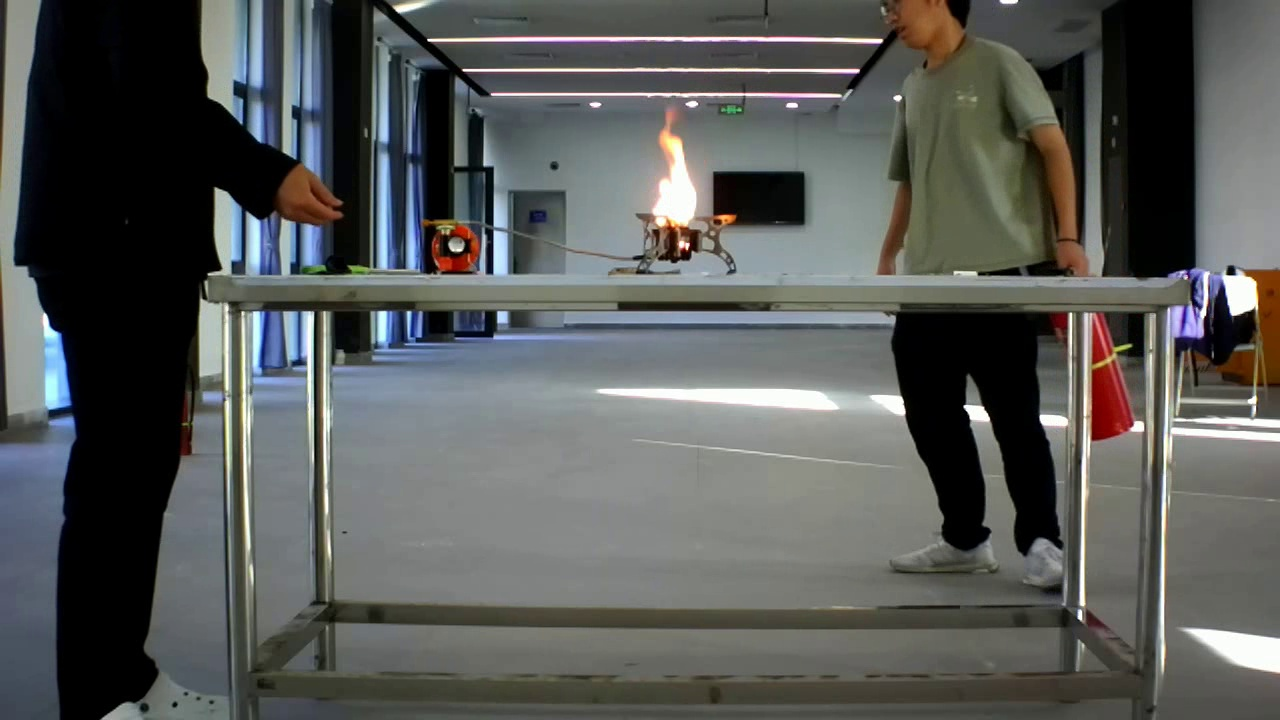Fire: (632, 98, 740, 262)
